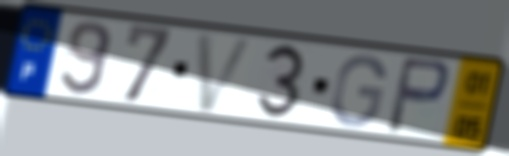3: (251, 41, 310, 123)
7: (123, 20, 175, 107)
9: (58, 19, 113, 98)
G: (328, 52, 390, 130)
P: (383, 54, 452, 138)
V: (193, 30, 259, 115)
